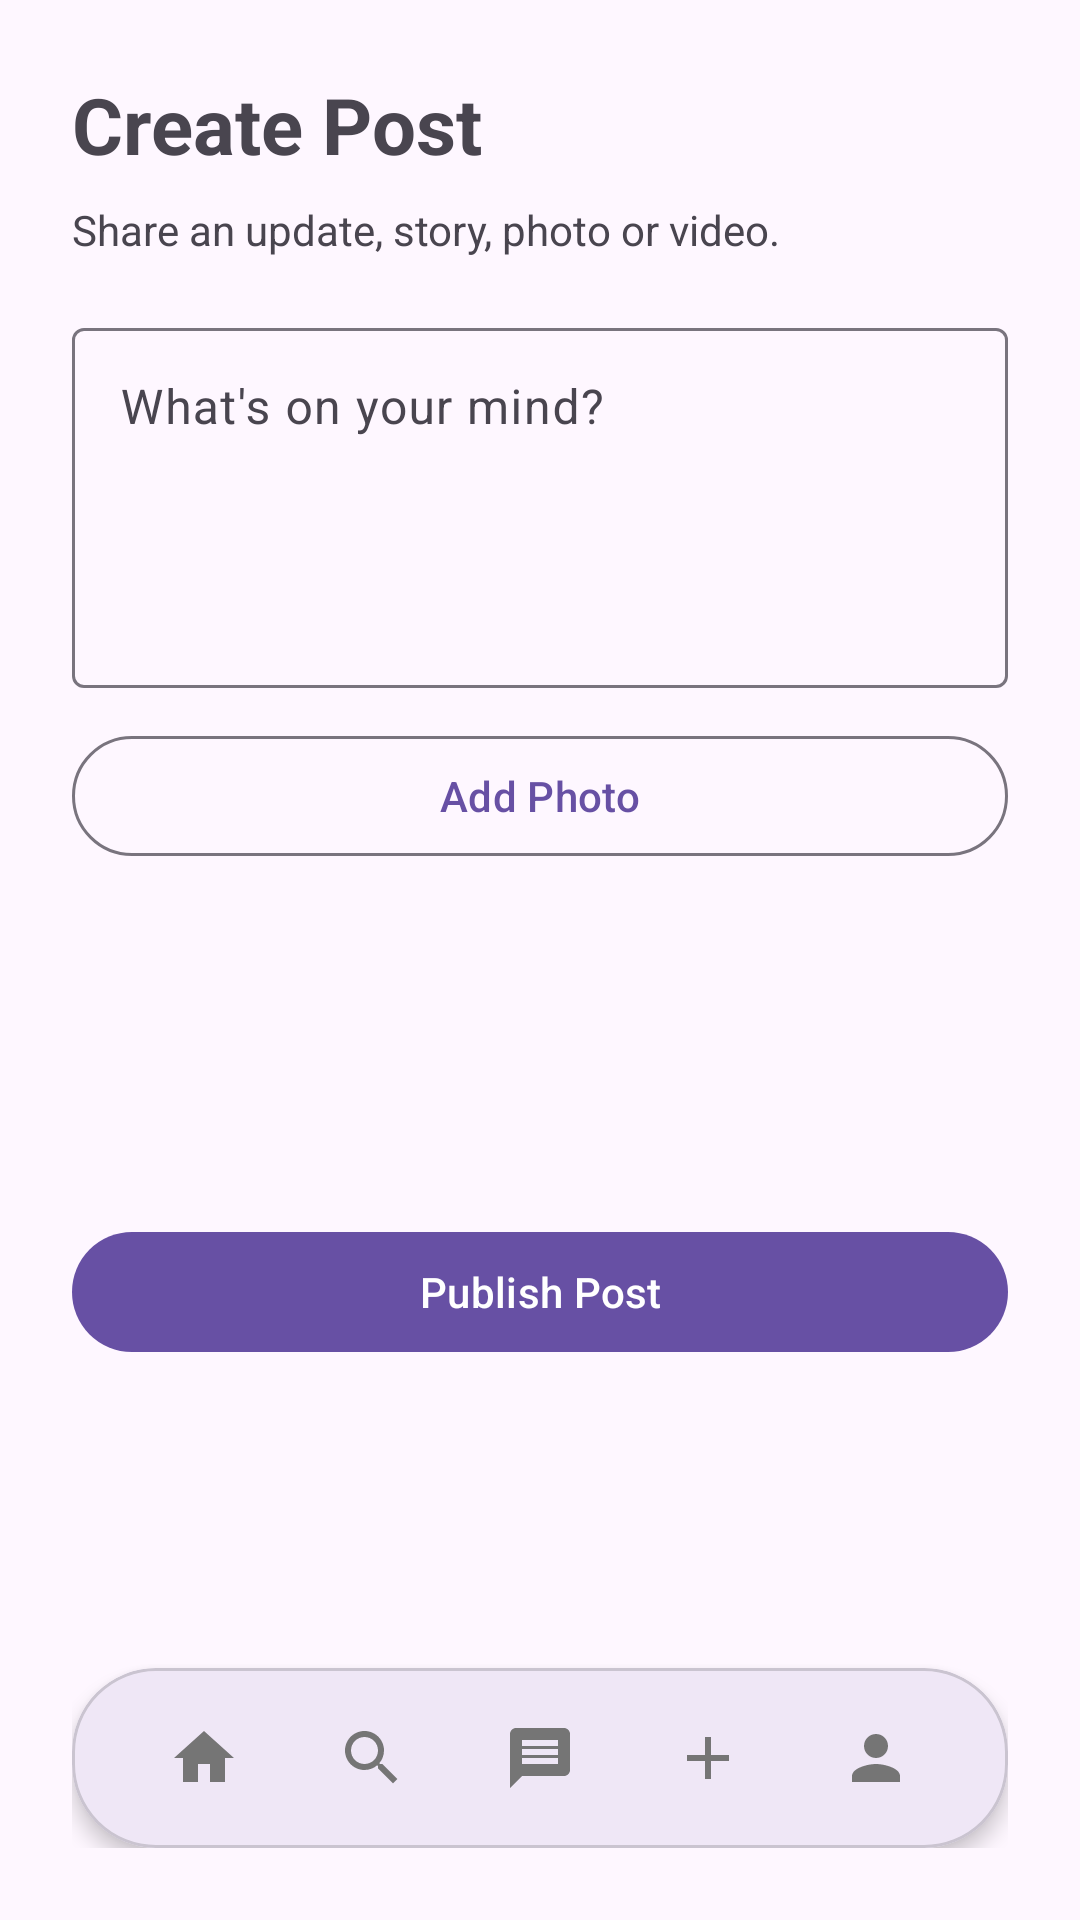

Where icons sit on this 1080px×1920px app screen, as Rect(x1, y1, x2, y2):
Create post: Rect(687, 1737, 729, 1779)
Home: Rect(174, 1731, 234, 1782)
Messages: Rect(510, 1728, 570, 1788)
Open profile: Rect(852, 1734, 900, 1782)
Search: Rect(345, 1731, 397, 1783)
